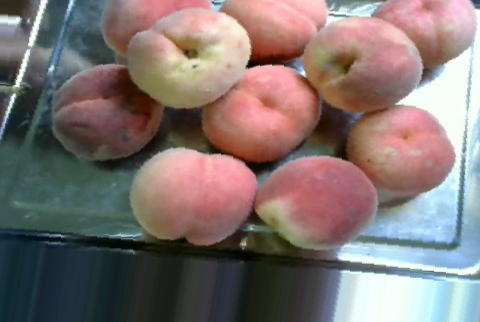Peach: (299, 15, 428, 116), (127, 147, 259, 245), (254, 154, 379, 251), (127, 8, 250, 105), (201, 64, 322, 160), (49, 61, 161, 160), (342, 104, 458, 199), (372, 0, 476, 67)
